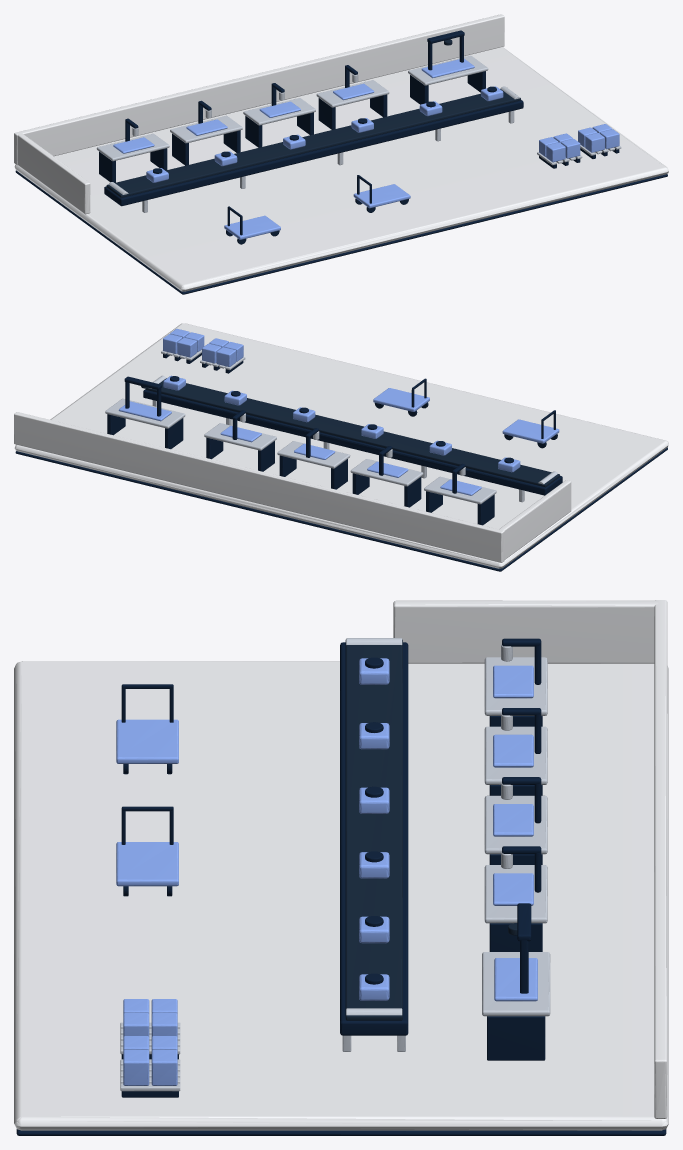
Rendered from linea.glb.
The picture shows the model from 3 angles, top to bottom: view 1: azimuth 30°, elevation 25°; view 2: azimuth 150°, elevation 25°; view 3: azimuth 270°, elevation 25°; orthographic projection. The views are drawn at different scales.
Parts seen in each view (by area): view 1: suelo, pared-trasera, banda-superficie, banda-bastidor, pared-lateral, canto-base, carrito-plataforma.001, carrito-plataforma, inspeccion-cubierta, estacion-1-cubierta, estacion-2-cubierta, estacion-4-cubierta (+2 smaller); view 2: suelo, pared-trasera, banda-superficie, banda-bastidor, pared-lateral, canto-base, carrito-plataforma, carrito-plataforma.001, inspeccion-cubierta, estacion-1-cubierta, estacion-3-cubierta, estacion-4-cubierta (+7 smaller); view 3: suelo, banda-superficie, pared-lateral, pared-trasera, banda-bastidor, canto-base, carrito-plataforma.001, carrito-plataforma, inspeccion-soporte.001, inspeccion-cubierta, estacion-4-cubierta, estacion-3-cubierta (+10 smaller).
Part boxes in pixels (x1,y1,x2,y2): suelo: (14,47,668,291); pared-trasera: (14,14,504,165); banda-superficie: (106,89,520,197); banda-bastidor: (104,100,523,206); pared-lateral: (17,133,90,214); canto-base: (15,170,667,294); carrito-plataforma.001: (353,184,410,208); carrito-plataforma: (224,215,280,239); inspeccion-cubierta: (408,55,488,85); estacion-1-cubierta: (96,133,169,161); estacion-2-cubierta: (170,115,242,143); estacion-4-cubierta: (316,80,389,107); suelo: (14,323,668,568); pared-trasera: (14,412,504,562); banda-superficie: (145,378,559,487); banda-bastidor: (143,389,562,495); pared-lateral: (499,480,571,559); canto-base: (15,447,667,571); carrito-plataforma: (502,419,559,443); carrito-plataforma.001: (373,388,429,411); inspeccion-cubierta: (105,398,185,428); estacion-1-cubierta: (424,476,496,504); estacion-3-cubierta: (277,441,350,468); estacion-4-cubierta: (204,423,276,450); suelo: (14,661,668,1130); banda-superficie: (345,639,402,1020); pared-lateral: (393,600,658,663); pared-trasera: (654,600,667,1118); banda-bastidor: (340,642,408,1035); canto-base: (16,1129,666,1135); carrito-plataforma.001: (116,842,178,886); carrito-plataforma: (116,719,178,763); inspeccion-soporte.001: (487,1016,545,1060); inspeccion-cubierta: (482,952,550,1016); estacion-4-cubierta: (484,865,547,923); estacion-3-cubierta: (484,795,547,854).
Bounding box in the file's own units: 20 × 2.66 × 12.
